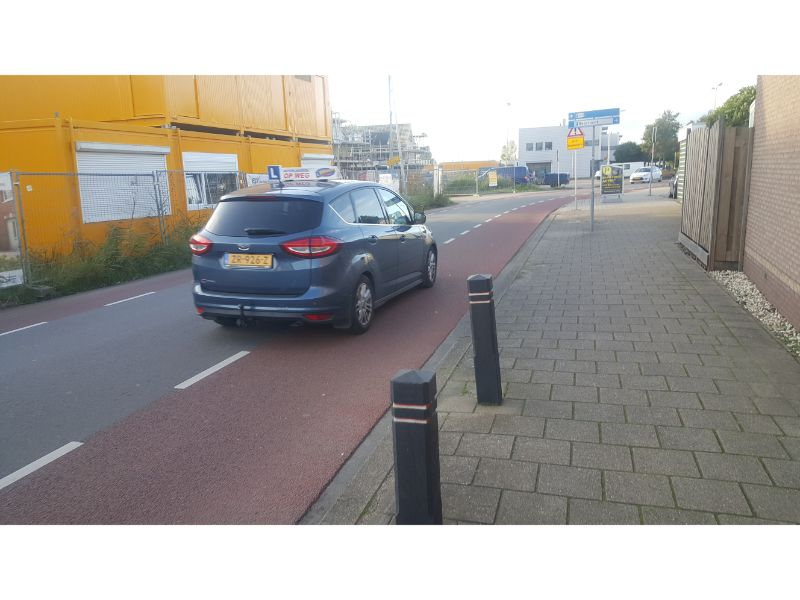kenteken: (223, 251, 273, 268)
